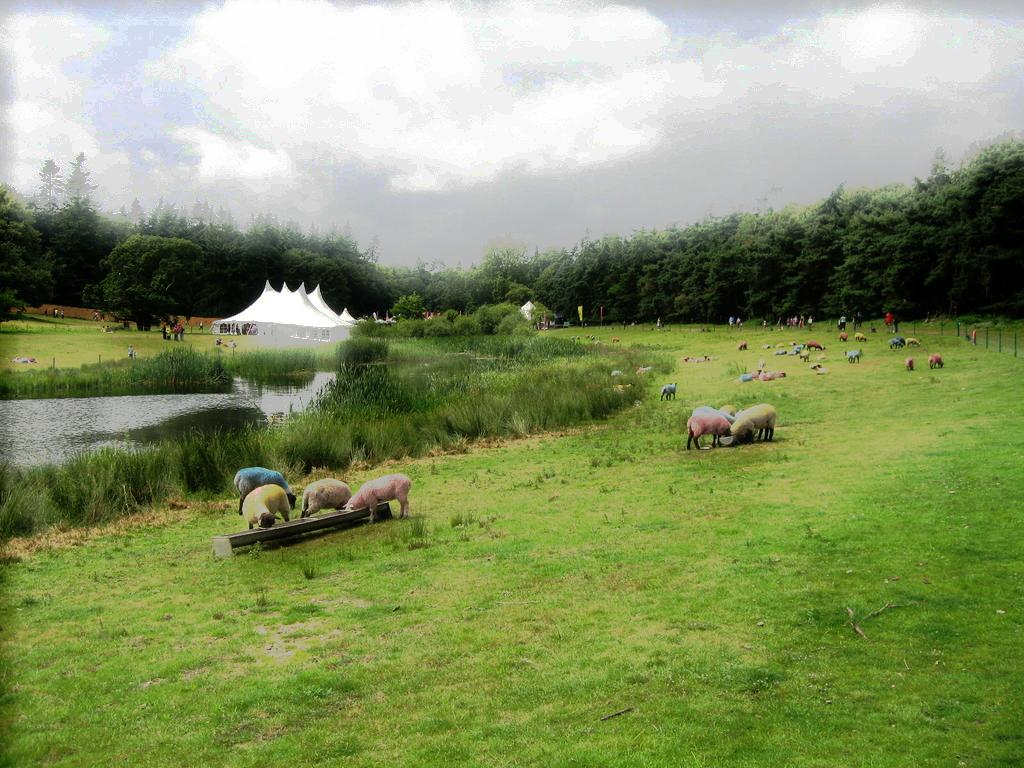Sheep: (340, 475, 410, 521), (234, 468, 284, 513), (244, 484, 290, 529), (297, 478, 350, 516), (730, 406, 778, 446), (686, 415, 731, 450), (690, 404, 721, 448), (660, 379, 678, 401), (929, 354, 945, 369), (724, 406, 746, 416), (844, 351, 860, 363), (889, 338, 904, 350), (739, 373, 753, 381), (748, 369, 762, 377), (772, 370, 787, 377), (761, 373, 774, 381)
